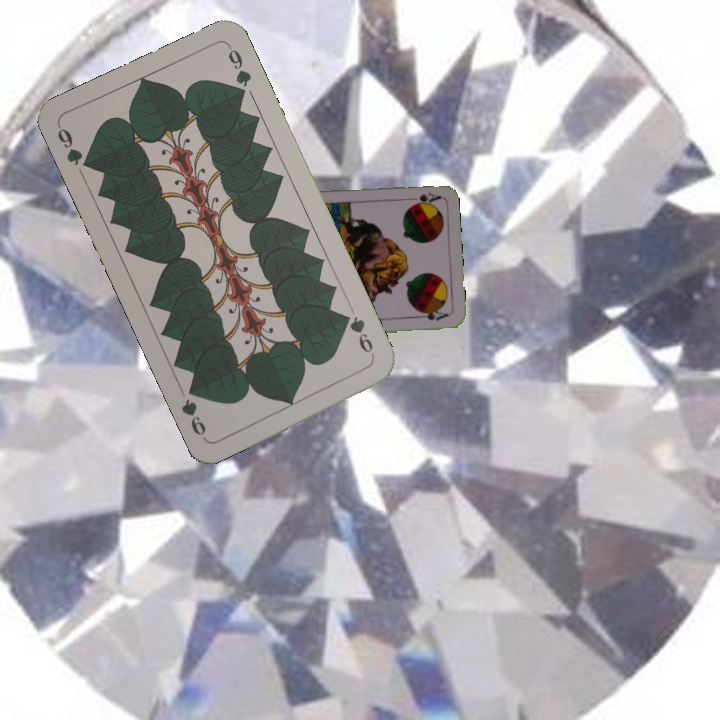G9: (53, 122, 95, 172), (339, 310, 378, 362)
SA: (402, 188, 443, 206)
